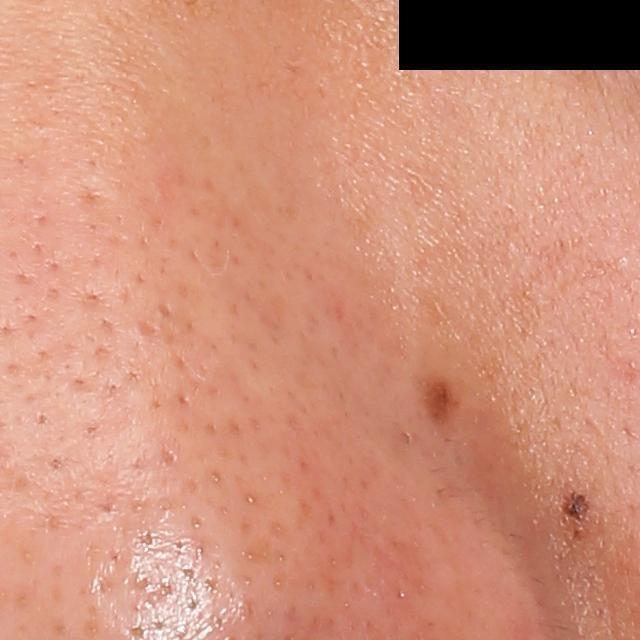nevus: (409, 373, 457, 428), (558, 488, 591, 528)
